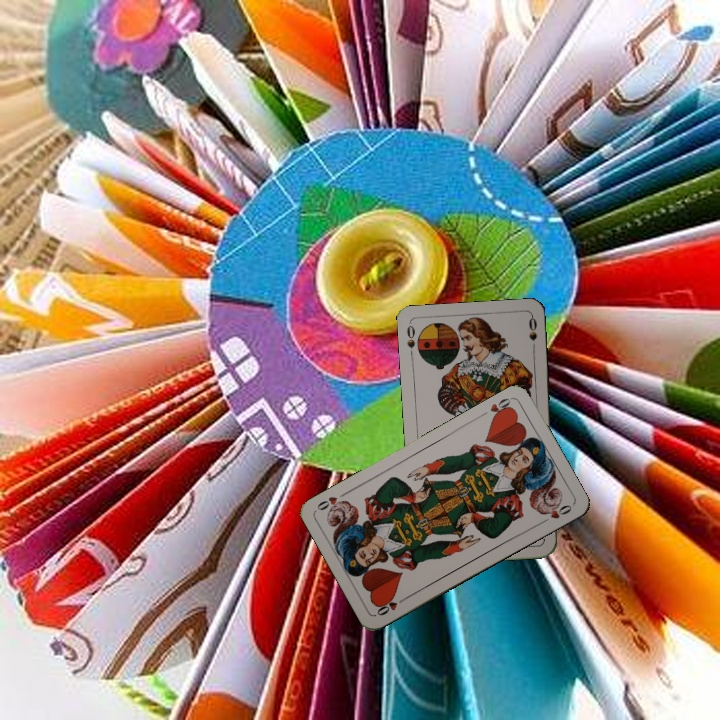HO: (373, 592, 410, 618), (486, 394, 515, 422)
SO: (403, 321, 418, 361)
